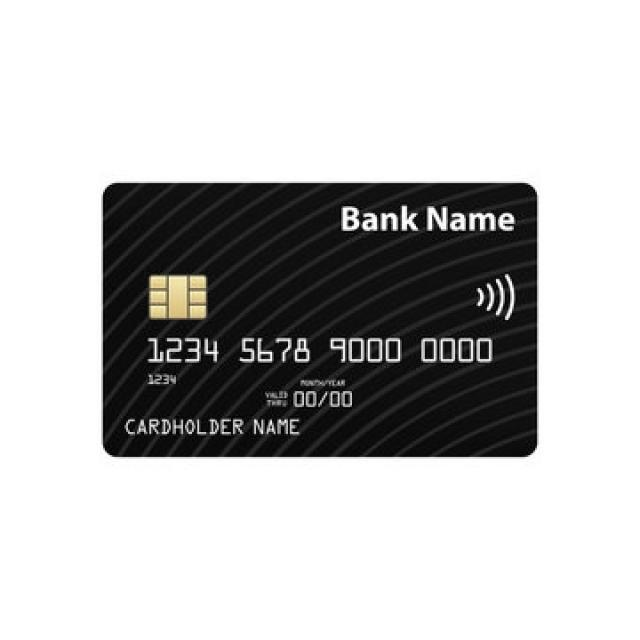payment_card: (101, 181, 539, 458)
